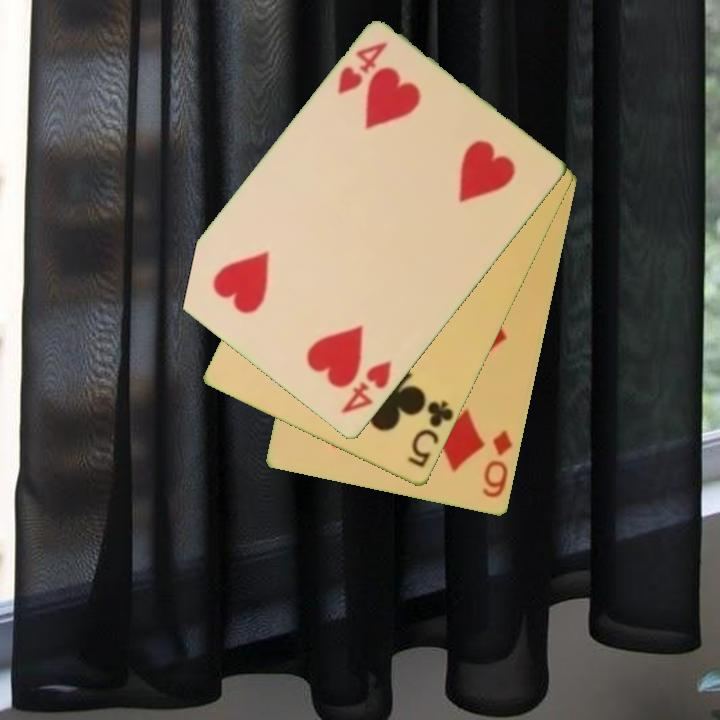4h: (337, 357, 395, 418), (333, 38, 391, 98)
5c: (404, 397, 457, 472)
6d: (479, 427, 516, 502)
